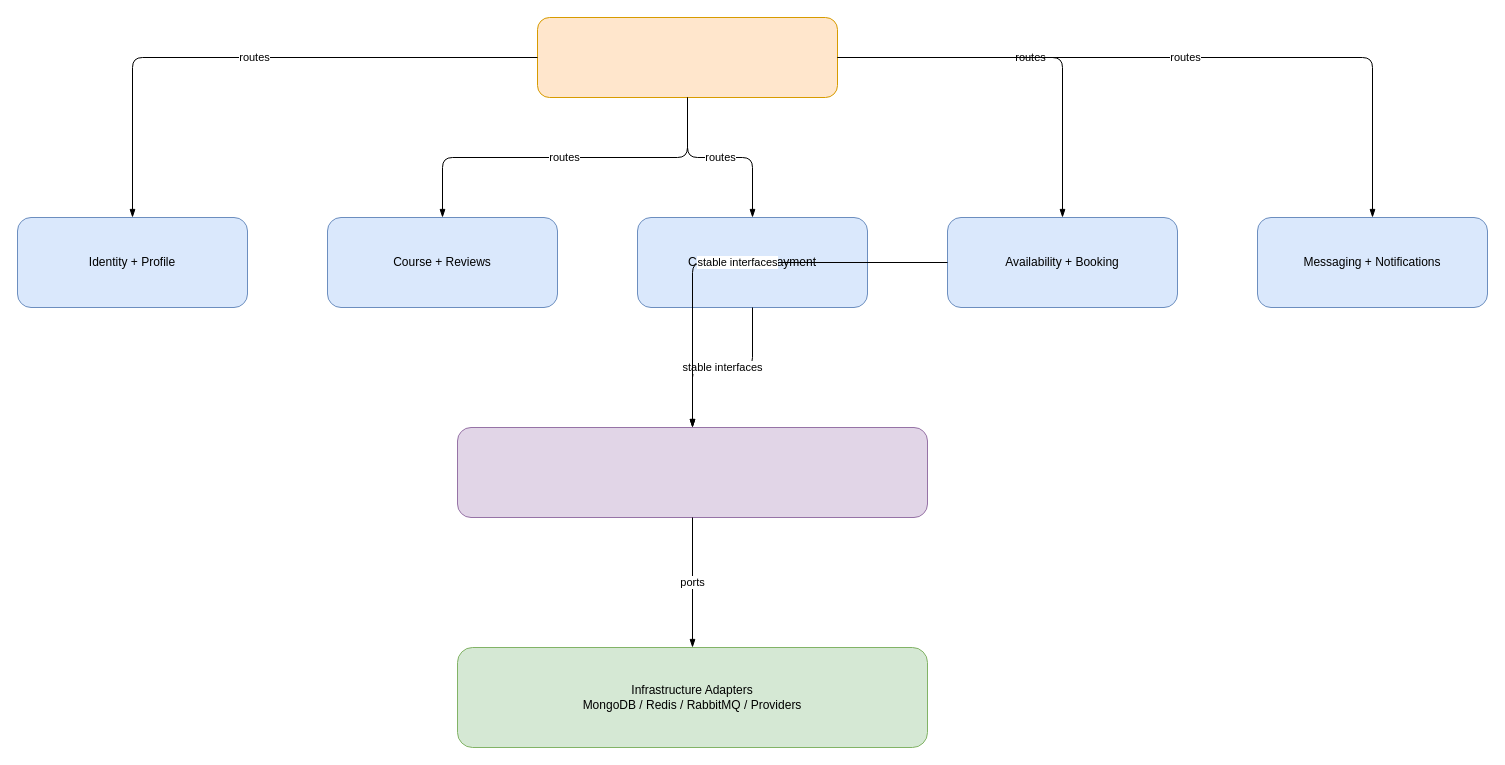
Image size: 1505x765. Some labels were removed from this diagram. The centre of each missing label's shape, as x and y in pixels:
Application Commands / Queries / Domain Events: pixel 692 472
HTTP / Socket Adapters: pixel 687 57
